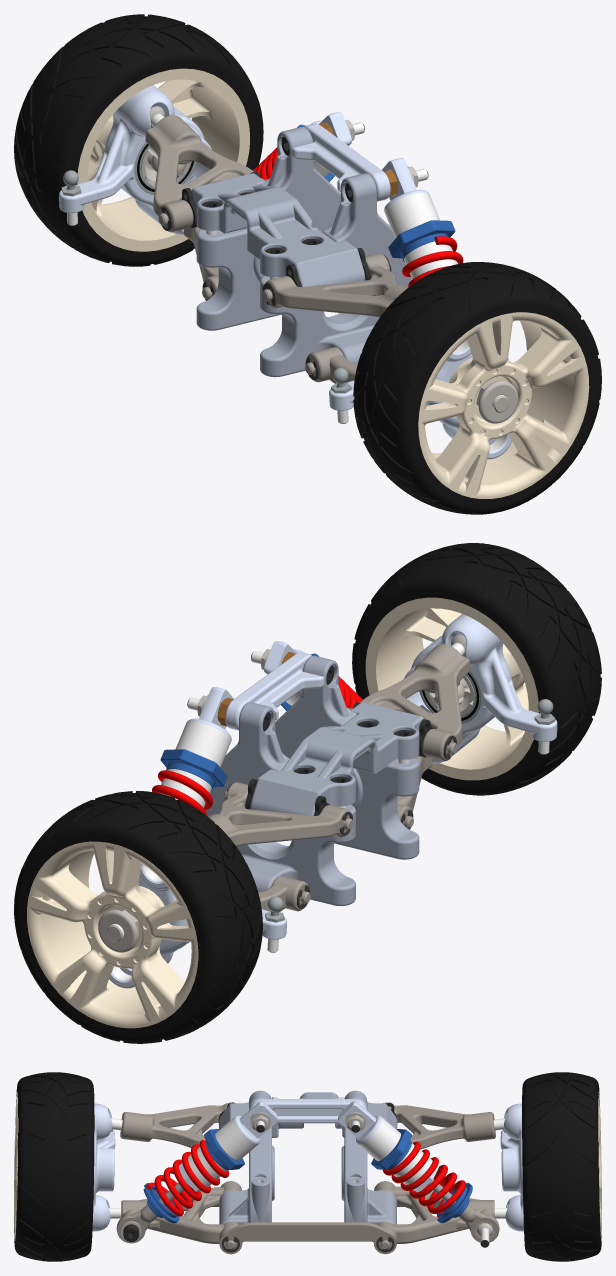
Rendered from Car_Suspension_Assembly.glb.
3 renders of one model, top to bottom at view 1: azimuth 30°, elevation 25°; view 2: azimuth 150°, elevation 25°; view 3: azimuth 270°, elevation 25°, orthographic. The views are drawn at different scales.
Visible parts, largest first — view 1: 2- Tire-1 (×2), 1- Wheel Rim-1 (×2), 15- Front Upper Arm Mount-1, 12- Front Upper Arm-1 (×2), 7- Front Side Plate R-3, 7- Front Side Plate L-1, 26- Front Hub Carrier R-1, SA-06 Front Brake System-3/23- Shock Body-1 (×2), 17- Front Shock Brace-1, 5- Front Hub Carrier L-1, 21- Shock Spring Adjustment Nut-1, 9) ANSI B18.2.4.4M - M5 x 0-1 (+3 smaller); view 2: 2- Tire-1 (×2), 1- Wheel Rim-1 (×2), 15- Front Upper Arm Mount-1, 12- Front Upper Arm-1 (×2), 7- Front Side Plate L-1, 7- Front Side Plate R-3, 5- Front Hub Carrier L-1, SA-06 Front Brake System-3/23- Shock Body-1 (×2), 17- Front Shock Brace-1, 26- Front Hub Carrier R-1, 21- Shock Spring Adjustment Nut-1, ANSI B18.2.4.4M - M5 x 0-1 (+3 smaller); view 3: 2- Tire-1 (×2), 12- Front Upper Arm-1 (×2), 11- Front Lower Arm-1 (×2), 27- Suspension Spring-1 (×2), SA-06 Front Brake System-3/23- Shock Body-1 (×2), 3- Front Lower Arm Brace-1, 7- Front Side Plate L-1, 7- Front Side Plate R-3, 26- Front Hub Carrier R-1, 5- Front Hub Carrier L-1, 17- Front Shock Brace-1, 21- Shock Spring Adjustment Nut-1 (×2) (+4 smaller).
Boxes of the visible parts, x1,y1,x2,y2 form: 2- Tire-1 (×2): [14, 14, 601, 514]; 1- Wheel Rim-1 (×2): [77, 68, 589, 498]; 15- Front Upper Arm Mount-1: [191, 173, 365, 286]; 12- Front Upper Arm-1 (×2): [145, 115, 407, 317]; 7- Front Side Plate R-3: [260, 173, 411, 377]; 7- Front Side Plate L-1: [196, 127, 340, 330]; 26- Front Hub Carrier R-1: [59, 85, 211, 234]; SA-06 Front Brake System-3/23- Shock Body-1 (×2): [310, 112, 457, 279]; 17- Front Shock Brace-1: [291, 123, 390, 201]; 5- Front Hub Carrier L-1: [329, 340, 511, 459]; 21- Shock Spring Adjustment Nut-1: [388, 220, 455, 261]; 9) ANSI B18.2.4.4M - M5 x 0-1: [476, 380, 518, 423]; 2- Tire-1 (×2): [14, 543, 601, 1043]; 1- Wheel Rim-1 (×2): [27, 597, 538, 1028]; 15- Front Upper Arm Mount-1: [250, 702, 423, 815]; 12- Front Upper Arm-1 (×2): [208, 644, 470, 846]; 7- Front Side Plate L-1: [205, 702, 355, 905]; 7- Front Side Plate R-3: [275, 655, 419, 859]; 5- Front Hub Carrier L-1: [404, 614, 557, 763]; SA-06 Front Brake System-3/23- Shock Body-1 (×2): [159, 641, 305, 807]; 17- Front Shock Brace-1: [225, 652, 324, 730]; 26- Front Hub Carrier R-1: [109, 864, 287, 988]; 21- Shock Spring Adjustment Nut-1: [160, 749, 227, 790]; ANSI B18.2.4.4M - M5 x 0-1: [98, 909, 138, 952]; 2- Tire-1 (×2): [14, 1072, 601, 1261]; 12- Front Upper Arm-1 (×2): [120, 1102, 495, 1149]; 11- Front Lower Arm-1 (×2): [121, 1181, 494, 1243]; 27- Suspension Spring-1 (×2): [146, 1140, 465, 1217]; SA-06 Front Brake System-3/23- Shock Body-1 (×2): [188, 1101, 432, 1187]; 3- Front Lower Arm Brace-1: [219, 1222, 396, 1254]; 7- Front Side Plate L-1: [341, 1090, 396, 1224]; 7- Front Side Plate R-3: [219, 1090, 274, 1224]; 26- Front Hub Carrier R-1: [500, 1103, 523, 1231]; 5- Front Hub Carrier L-1: [92, 1103, 115, 1231]; 17- Front Shock Brace-1: [249, 1097, 367, 1123]; 21- Shock Spring Adjustment Nut-1 (×2): [204, 1129, 412, 1170].
Size of the model in its own units: 0.067 by 0.066 by 0.2048.
